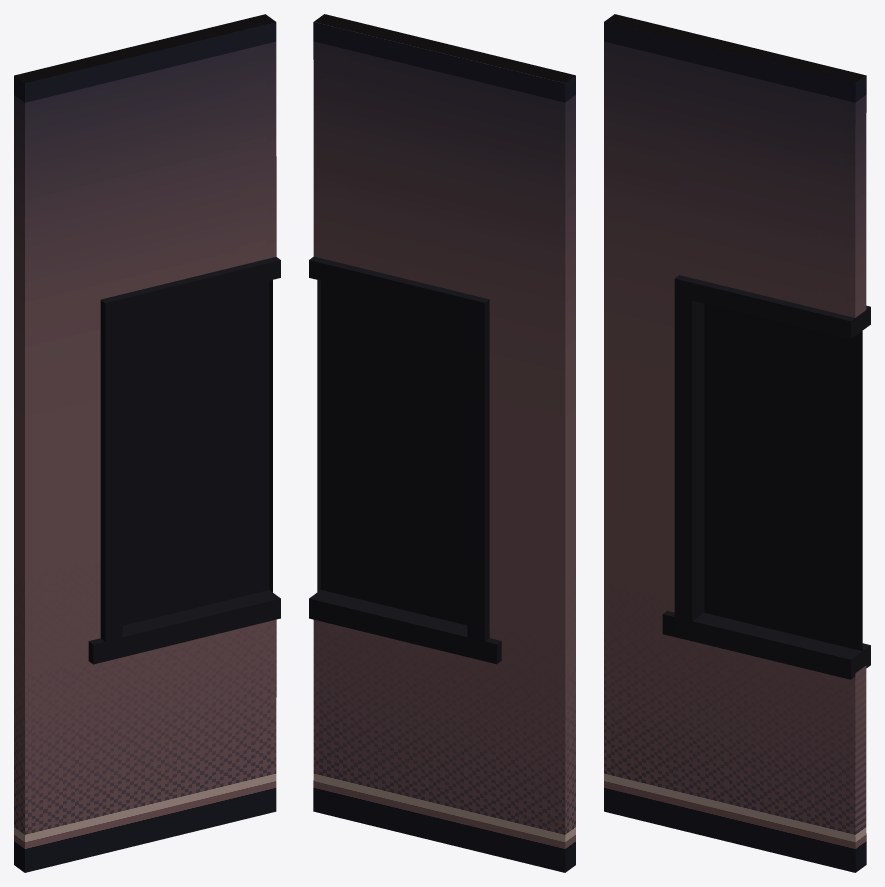
The model's file is R Wall.fbx.
3 renders of one model, left to right at view 1: azimuth 30°, elevation 25°; view 2: azimuth 150°, elevation 25°; view 3: azimuth 330°, elevation 25°, orthographic.
Visible parts, largest first — view 1: R Wall, glass.001, border.001; view 2: R Wall, glass.001, border.001; view 3: R Wall, glass.001, border.001.
Boxes of the visible parts, bbox=[...] form: R Wall: bbox=[14, 14, 276, 872]; glass.001: bbox=[122, 280, 272, 625]; border.001: bbox=[88, 257, 280, 664]; R Wall: bbox=[313, 14, 575, 872]; glass.001: bbox=[317, 280, 467, 625]; border.001: bbox=[309, 256, 501, 664]; R Wall: bbox=[604, 14, 866, 872]; glass.001: bbox=[700, 303, 862, 651]; border.001: bbox=[662, 275, 870, 679].
Size of the model in its own units: 200 by 600 by 27.99.
Materials: 3 (1 with a texture image).
